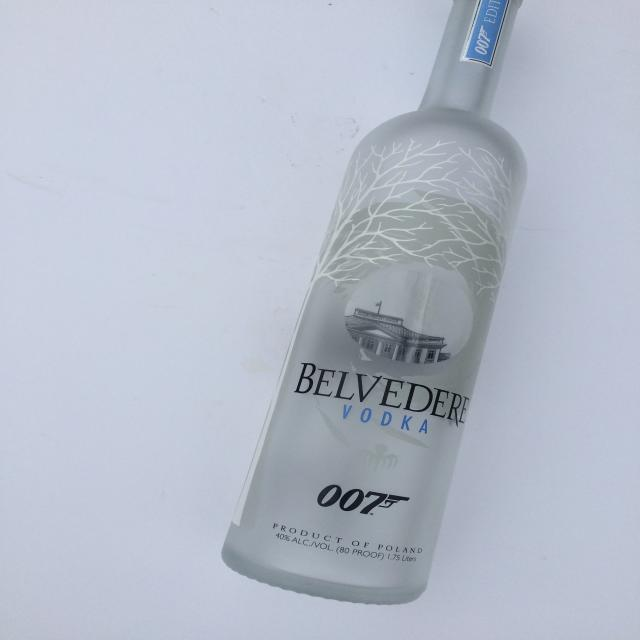glass: (217, 3, 528, 606)
